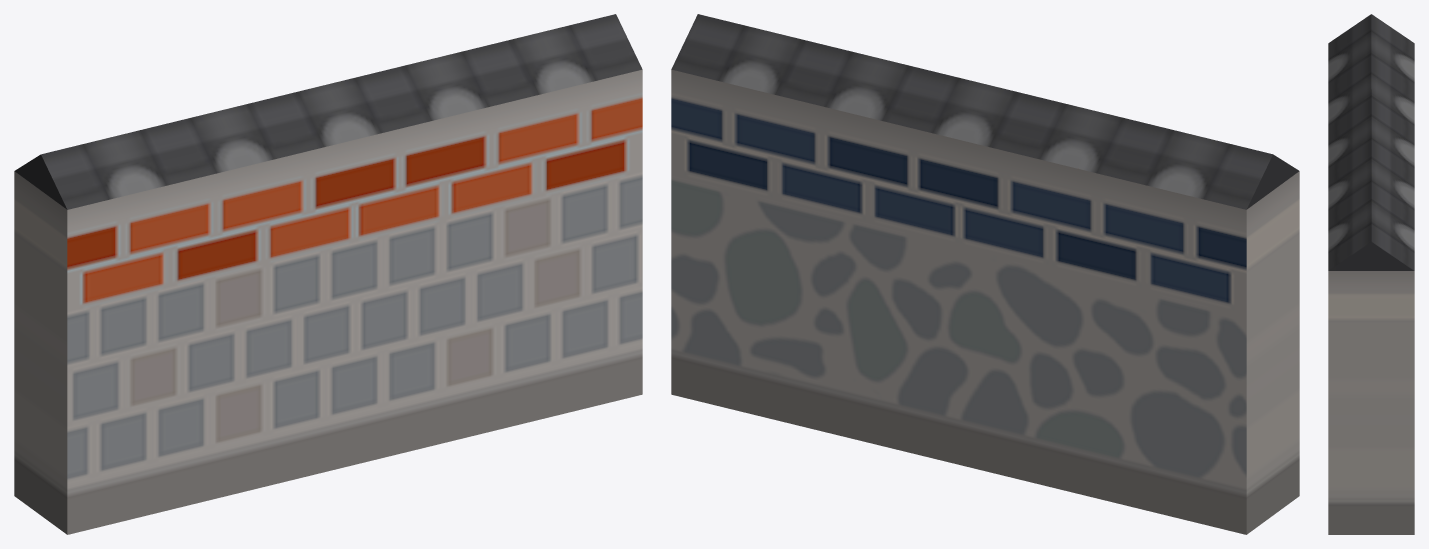
File: Landmark_Bukchon_Fence_02.fbx
3 views of the same model, side by side, from view 1: azimuth 30°, elevation 25°; view 2: azimuth 150°, elevation 25°; view 3: azimuth 270°, elevation 25° (orthographic). The views are drawn at different scales.
Parts seen in each view (by area): view 1: Landmark_Bukchon_Fence_02; view 2: Landmark_Bukchon_Fence_02; view 3: Landmark_Bukchon_Fence_02.
Part boxes in pixels (bbox=[...]): Landmark_Bukchon_Fence_02: bbox=[14, 14, 642, 534]; Landmark_Bukchon_Fence_02: bbox=[671, 14, 1299, 534]; Landmark_Bukchon_Fence_02: bbox=[1328, 14, 1414, 534].
Bounding box in the file's own units: 675 × 405 × 108.
